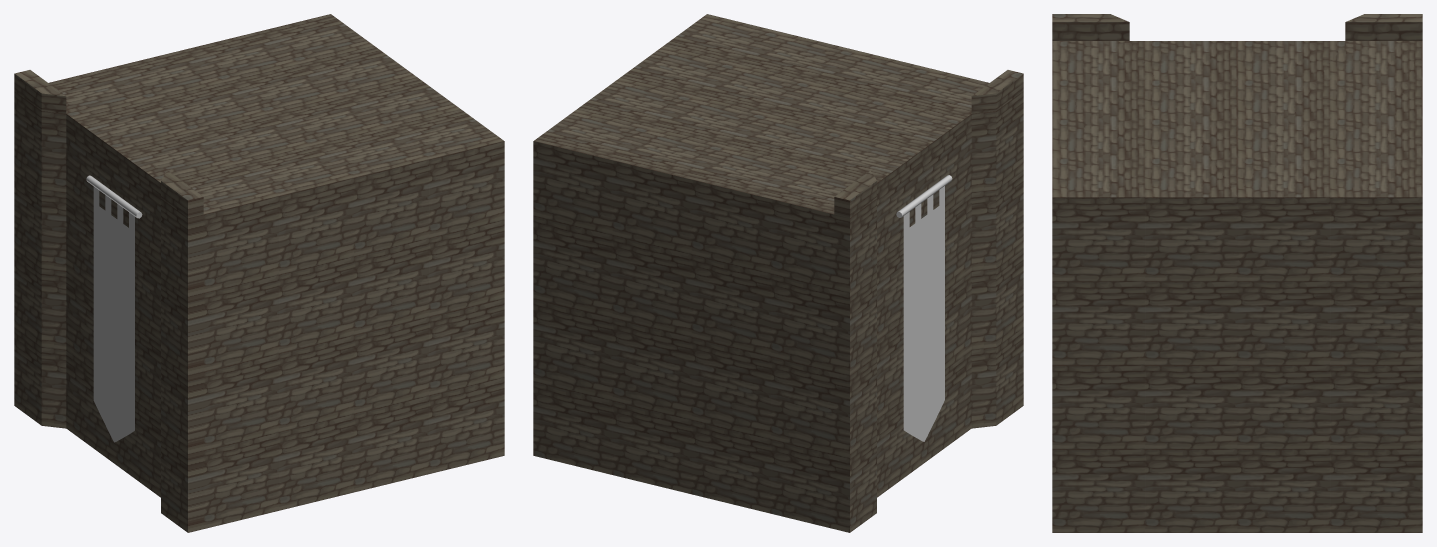
Rendered from WR_Wall_rope.FBX.
3 renders of one model, left to right at view 1: azimuth 30°, elevation 25°; view 2: azimuth 150°, elevation 25°; view 3: azimuth 270°, elevation 25°, orthographic. The views are drawn at different scales.
Visible parts, largest first — view 1: Box012, Tela1; view 2: Box012, Tela1; view 3: Box012.
Boxes of the visible parts, x1,y1,x2,y2 form: Box012: [14, 14, 504, 532]; Tela1: [86, 175, 142, 442]; Box012: [533, 14, 1023, 532]; Tela1: [896, 175, 952, 441]; Box012: [1052, 14, 1422, 532].
Size of the model in its own units: 26.72 by 26.82 by 25.4.
